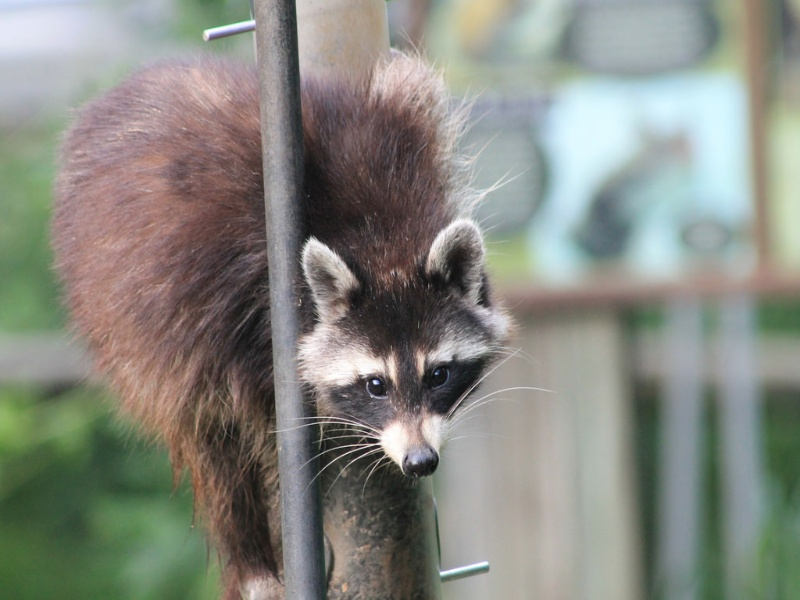raccoon: (37, 37, 532, 598)
